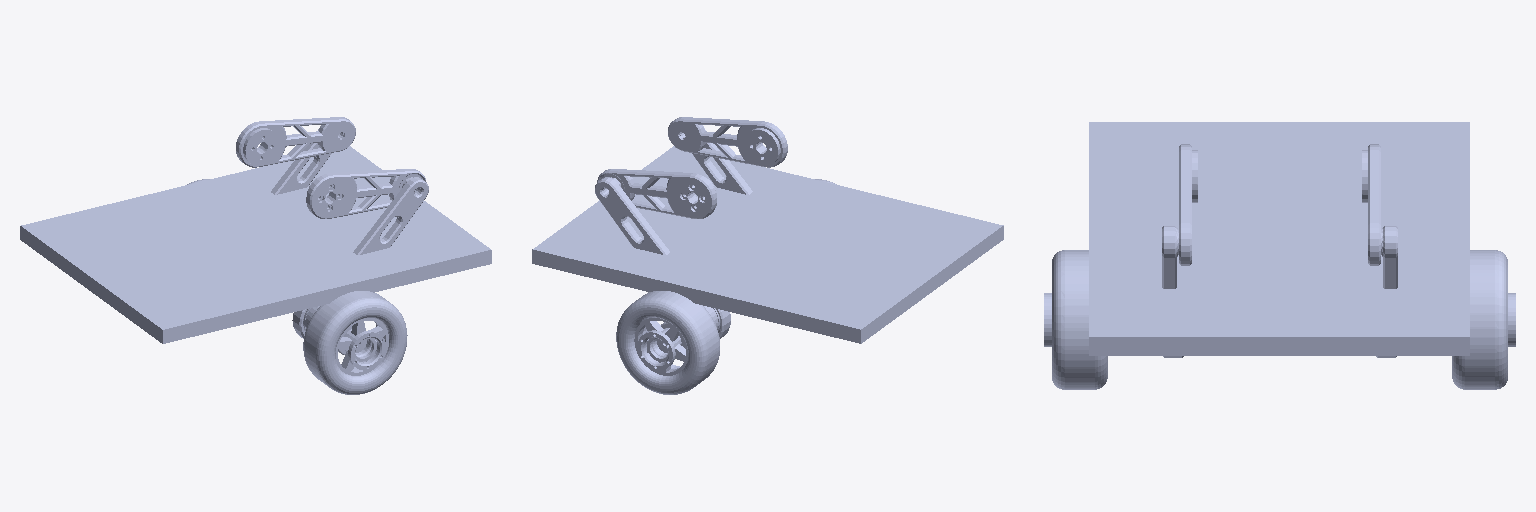
URDF robot description (sf):
<?xml version="1.0" encoding="utf-8"?>
<!-- This URDF was automatically created by SolidWorks to URDF Exporter! Originally created by Stephen Brawner (brawner@gmail.com) 
     Commit Version: 1.6.0-4-g7f85cfe  Build Version: 1.6.7995.38578
     For more information, please see http://wiki.ros.org/sw_urdf_exporter -->
<robot
  name="sf">
  <link
    name="base_link">
    <inertial>
      <origin
        xyz="0.0061304 0.0002476 -0.0093676"
        rpy="0 0 0" />
      <mass
        value="0.2660000" />  # 原版质量0.266
      <inertia
        ixx="0.0006309"
        ixy="0.0000006"
        ixz="-0.0000468"
        iyy="0.0003008"
        iyz="0.0000003"
        izz="0.0007489" />
      <!--<mass
        value="0.2660000" />
      <inertia
        ixx="0.001100"
        ixy="0.0000000"
        ixz="0.0000000"
        iyy="0.001400"
        iyz="0.0000000"
        izz="0.002400" />-->
      <!--<mass
        value="0.7280000" />  
      <inertia
        ixx="0.001727"    
        ixy="0.0000016"   
        ixz="-0.000128"   
        iyy="0.000823"    
        iyz="0.0000008"   
        izz="0.002050" />-->  
    </inertial>
    <visual>
      <!--<origin
        xyz="0.00 0 -0.00"
        rpy="0 0 0" />-->
      <origin
        xyz="0.01 0 -0.04"
        rpy="0 0 0" />
      <geometry>
        <!--<mesh
          filename="../meshes/base_link.STL" />-->
        <box size="0.24 0.18 0.01" />
      </geometry>
      <material
        name="">
        <color
          rgba="0.792156862745098 0.819607843137255 0.933333333333333 1" />
      </material>
    </visual>
    <collision>
      <!--<origin
        xyz="0.00 0 -0.00"
        rpy="0 0 0" />-->
      <origin
        xyz="0.01 0 -0.04"
        rpy="0 0 0" />
      <geometry>
        <!--<mesh
          filename="../meshes/base_link.STL" />-->
        <box size="0.24 0.18 0.01" />
      </geometry>
    </collision>
  </link>
  <link
    name="LT_link">
    <inertial>
      <origin
        xyz="0.0012701 0.0040620 -0.0190086"
        rpy="0 0 0" />
      <mass
        value="0.0080000" />
      <inertia
        ixx="0.0000041"
        ixy="0.0000000"
        ixz="0.0000002"
        iyy="0.0000046"
        iyz="0.0000001"
        izz="0.0000005" />
    </inertial>
    <visual>
      <origin
        xyz="0 0 0"
        rpy="0 0 0" />
      <geometry>
        <mesh
          filename="../meshes/LT_link.STL" />
      </geometry>
      <material
        name="">
        <color
          rgba="0.792156862745098 0.819607843137255 0.933333333333333 1" />
      </material>
    </visual>
    <collision>
      <origin
        xyz="0 0 0"
        rpy="0 0 0" />
      <geometry>
        <mesh
          filename="../meshes/LT_link.STL" />
      </geometry>
    </collision>
  </link>
  <joint
    name="LT_joint"
    type="revolute">
    <origin
      xyz="0.037193 0.04014 0.00555"
      rpy="0 -1.3914 0" />
    <parent
      link="base_link" />
    <child
      link="LT_link" />
    <axis
      xyz="0 -1 0" />
    <limit
      lower="-1.3479"
      upper="0.3363"
      effort="0.5"
      velocity="20" />
    <dynamics
      friction="0.00"
      damping="0.00" />
  </joint>
  <link
    name="LC_link">
    <inertial>
      <origin
        xyz="0.0013809 0.0047027 -0.0690315"
        rpy="0 0 0" />
      <mass
        value="0.0166292" />
      <inertia
        ixx="1.92606315320937E-05"
        ixy="-8.82655659688194E-09"
        ixz="-3.55356649539172E-07"
        iyy="1.99807316204063E-05"
        iyz="4.41228359669666E-07"
        izz="1.55379596081475E-06" />
    </inertial>
    <visual>
      <origin
        xyz="0 0 0"
        rpy="0 0 0" />
      <geometry>
        <mesh
          filename="../meshes/LC_link.STL" />
      </geometry>
      <material
        name="">
        <color
          rgba="0.792156862745098 0.819607843137255 0.933333333333333 1" />
      </material>
    </visual>
    <collision>
      <origin
        xyz="0 0 0"
        rpy="0 0 0" />
      <geometry>
        <mesh
          filename="../meshes/LC_link.STL" />
      </geometry>
    </collision>
  </link>
  <joint
    name="LC_joint"
    type="revolute">
    <origin
      xyz="0.00400624584257155 0.00825 -0.0599599974003271"
      rpy="3.14159265358979 0.970968251102385 3.14159265358979" />
    <parent
      link="LT_link" />
    <child
      link="LC_link" />
    <axis
      xyz="0 -1 0" />
    <limit
      lower="-0.3"
      upper="1.25"
      effort="0.5"
      velocity="20" />
    <dynamics
      friction="0.00"
      damping="0.00" />
  </joint>
  <link
    name="LW_link">
    <inertial>
      <origin
        xyz="0.0000000 0.0083246 0.0000000"
        rpy="0 0 0" />
      <mass
        value="0.0559681585451639" />
      <inertia
        ixx="0.0000121"
        ixy="0.0000000"
        ixz="0.0000000"
        iyy="0.0000209"
        iyz="0.0000000"
        izz="0.0000121" />
    </inertial>
    <visual>
      <origin
        xyz="0 0.015 0"
        rpy="0 0 0" />
      <geometry>
        <mesh
          filename="../meshes/LW_link.STL" />
      </geometry>
      <!--<geometry>
        <cylinder length="0.03" radius="0.03"/>
      </geometry>-->
      <material
        name="">
        <color
          rgba="0.792156862745098 0.819607843137255 0.933333333333333 1" />
      </material>
    </visual>
    <collision>
      <origin
        xyz="0 0.015 0"
        rpy="0 0 0" />
      <geometry>
        <mesh
          filename="../meshes/LW_link.STL" />
      </geometry>
      <!--<geometry>
        <cylinder length="0.03" radius="0.03"/>
      </geometry>-->
    </collision>
  </link>
  <joint
    name="LW_joint"
    type="revolute">
    <origin
      xyz="0.00200000000000076 0.024 -0.0999799979995941"
      rpy="0 -0.779219558190924 0" />
    <parent
      link="LC_link" />
    <child
      link="LW_link" />
    <axis
      xyz="0 1 0" />
    <limit
      
      effort="0.25"
      velocity="100" />
  </joint>
  <link
    name="RT_link">
    <inertial>
      <origin
        xyz="0.00127013 -0.0040620 -0.0190086"
        rpy="0 0 0" />
      <mass
        value="0.0080000" />
      <inertia
        ixx="0.0000041"
        ixy="0.0000000"
        ixz="0.0000002"
        iyy="0.0000046"
        iyz="0.0000001"
        izz="0.0000005" />
    </inertial>
    <visual>
      <origin
        xyz="0 0 0"
        rpy="0 0 0" />
      <geometry>
        <mesh
          filename="../meshes/RT_link.STL" />
      </geometry>
      <material
        name="">
        <color
          rgba="0.792156862745098 0.819607843137255 0.933333333333333 1" />
      </material>
    </visual>
    <collision>
      <origin
        xyz="0 0 0"
        rpy="0 0 0" />
      <geometry>
        <mesh
          filename="../meshes/RT_link.STL" />
      </geometry>
    </collision>
  </link>
  <joint
    name="RT_joint"
    type="revolute">
    <origin
      xyz="0.037193 -0.03976 0.00555"
      rpy="0 -1.3914 0" />
    <parent
      link="base_link" />
    <child
      link="RT_link" />
    <axis
      xyz="0 1 0" />
    <limit
      lower="-0.3363"
      upper="1.3479"
      effort="0.5"
      velocity="20" />
    <dynamics
      friction="0.00"
      damping="0.00" />
  </joint>
  <link
    name="RC_link">
    <inertial>
      <origin
        xyz="-0.0013809 -0.0047027 -0.0690315"
        rpy="0 0 0" />
      <mass
        value="0.0166292" />
      <inertia
        ixx="0.0000240"
        ixy="0.0000000"
        ixz="0.0000004"
        iyy="0.0000245"
        iyz="-0.00000006"
        izz="0.0000016" />
    </inertial>
    <visual>
      <origin
        xyz="0 0 0"
        rpy="0 0 0" />
      <geometry>
        <mesh
          filename="../meshes/RC_link.STL" />
      </geometry>
      <material
        name="">
        <color
          rgba="0.792156862745098 0.819607843137255 0.933333333333333 1" />
      </material>
    </visual>
    <collision>
      <origin
        xyz="0 0 0"
        rpy="0 0 0" />
      <geometry>
        <mesh
          filename="../meshes/RC_link.STL" />
      </geometry>
    </collision>
  </link>
  <joint
    name="RC_joint"
    type="revolute">
    <origin
      xyz="0.0040062458425682 -0.00825000000001 -0.0599599974003474"
      rpy="-3.14159265358951 1.01097091824902 -3.14159265358956" />
    <parent
      link="RT_link" />
    <child
      link="RC_link" />
    <axis
      xyz="0 1 0" />
    <limit
      lower="-1.25"
      upper="0.3"
      effort="0.5"
      velocity="20" />
    <dynamics
      friction="0.00"
      damping="0.00" />
  </joint>
  <link
    name="RW_link">
    <inertial>
      <origin
        xyz="0.0000000 -0.0083246 0.0000000"
        rpy="1.5708 0 0" />
      <mass
        value="0.0559681585451639" />
      <inertia
        ixx="0.0000121"
        ixy="0.0000000"
        ixz="0.0000000"
        iyy="0.0000209"
        iyz="0.0000000"
        izz="0.0000121" />
    </inertial>
    <visual>
      <origin
        xyz="0 -0.015 0"
        rpy="0 0 0" />
      <geometry>
        <mesh
          filename="../meshes/RW_link.STL" />
      </geometry>
      <!--<geometry>
        <cylinder length="0.03" radius="0.03"/>
      </geometry>-->
      <material
        name="">
        <color
          rgba="0.792156862745098 0.819607843137255 0.933333333333333 1" />
      </material>
    </visual>
    <collision>
      <origin
        xyz="0 -0.015 0"
        rpy="0 0 0" />
      <geometry>
        <mesh
          filename="../meshes/RW_link.STL" />
      </geometry>
      <!--<geometry>
        <cylinder length="0.03" radius="0.03"/>
      </geometry>-->
    </collision>
  </link>
  <joint
    name="RW_joint"
    type="revolute">
    <origin
      xyz="-0.00199999999999527 -0.0240000000000082 -0.0999799979995988"
      rpy="0 -0.739216891044192 0" />
    <parent
      link="RC_link" />
    <child
      link="RW_link" />
    <axis
      xyz="0 -1 0" />
    <limit
      
      effort="0.25"
      velocity="100" />
  </joint>
</robot>

--- What the picture shows (computed from the rendered views, not written in the file) ---
Views: 3 orthographic renders of the robot side by side, from view 1: azimuth 30°, elevation 25°; view 2: azimuth 150°, elevation 25°; view 3: azimuth 270°, elevation 25°.
Model sf with 7 links and 6 joints (6 revolute), rooted at base_link, posed every joint at zero.
Visible links, largest first — view 1: base_link, RW_link, LT_link, RT_link, RC_link, LC_link; view 2: base_link, LW_link, RT_link, LT_link, LC_link, RC_link; view 3: base_link, LW_link, RW_link, LT_link, RT_link, LC_link, RC_link.
Boxes of the visible links, left/top/right/bottom form: base_link: left=20, top=146, right=491, bottom=343; RW_link: left=303, top=291, right=407, bottom=394; LT_link: left=236, top=117, right=355, bottom=167; RT_link: left=306, top=169, right=426, bottom=218; RC_link: left=292, top=177, right=428, bottom=338; LC_link: left=271, top=129, right=343, bottom=194; base_link: left=532, top=146, right=1003, bottom=343; LW_link: left=616, top=291, right=719, bottom=394; RT_link: left=668, top=117, right=787, bottom=167; LT_link: left=597, top=169, right=716, bottom=218; LC_link: left=595, top=177, right=730, bottom=338; RC_link: left=680, top=128, right=752, bottom=194; base_link: left=1089, top=122, right=1469, bottom=355; LW_link: left=1452, top=250, right=1515, bottom=389; RW_link: left=1044, top=250, right=1107, bottom=389; LT_link: left=1362, top=144, right=1380, bottom=265; RT_link: left=1179, top=144, right=1197, bottom=265; LC_link: left=1376, top=226, right=1397, bottom=357; RC_link: left=1162, top=226, right=1183, bottom=357.
Bounding box of the posed robot: 0.24 × 0.2226 × 0.1273 m (x, y, z).
6 mesh visuals loaded from 6 distinct referenced files (6 binary STL).
